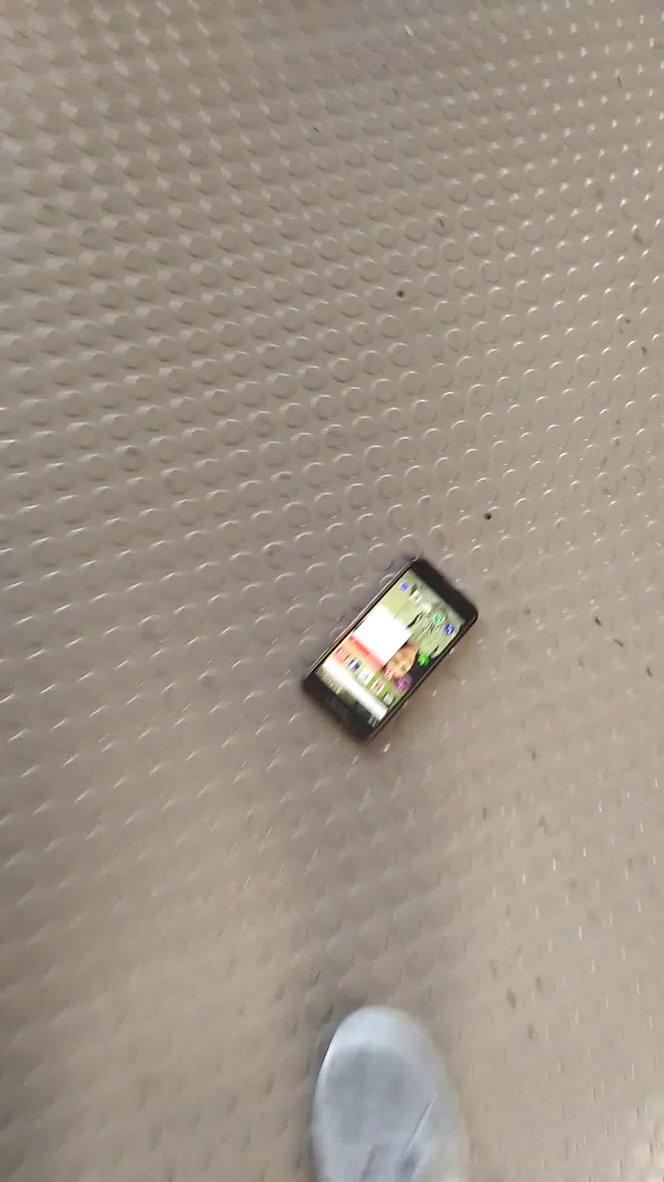phone: (280, 539, 488, 755)
